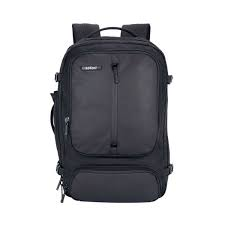backpack: (49, 22, 173, 203)
